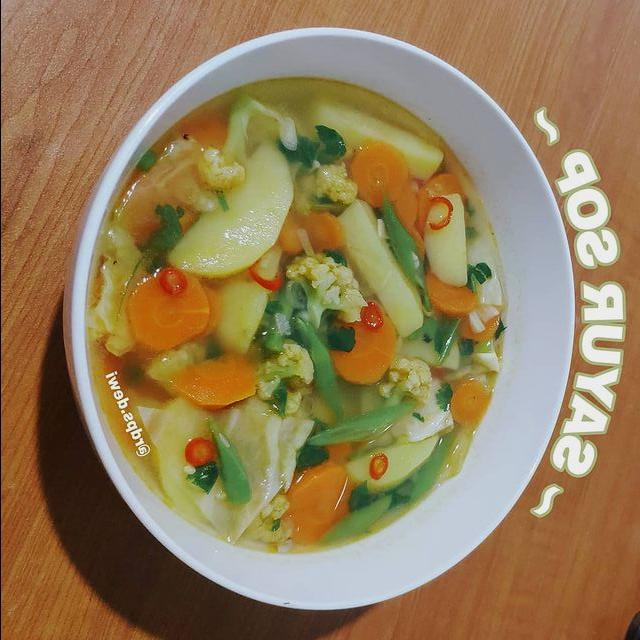sop: (90, 76, 505, 554)
